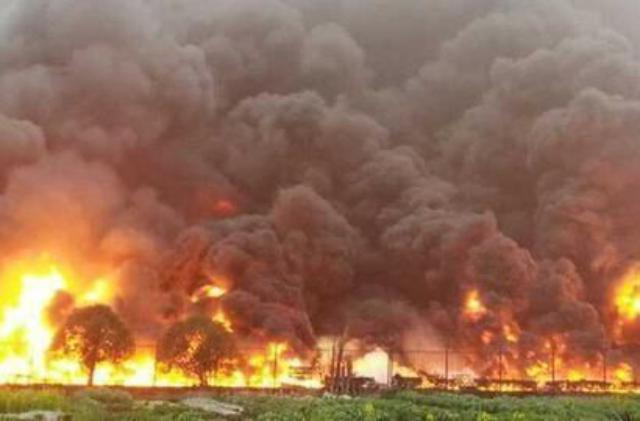fire: (0, 259, 57, 383), (216, 349, 296, 386), (94, 349, 154, 386), (526, 351, 600, 380), (73, 272, 121, 306), (612, 263, 638, 314), (56, 355, 90, 386), (152, 368, 195, 389), (606, 360, 634, 391), (462, 284, 490, 312)
